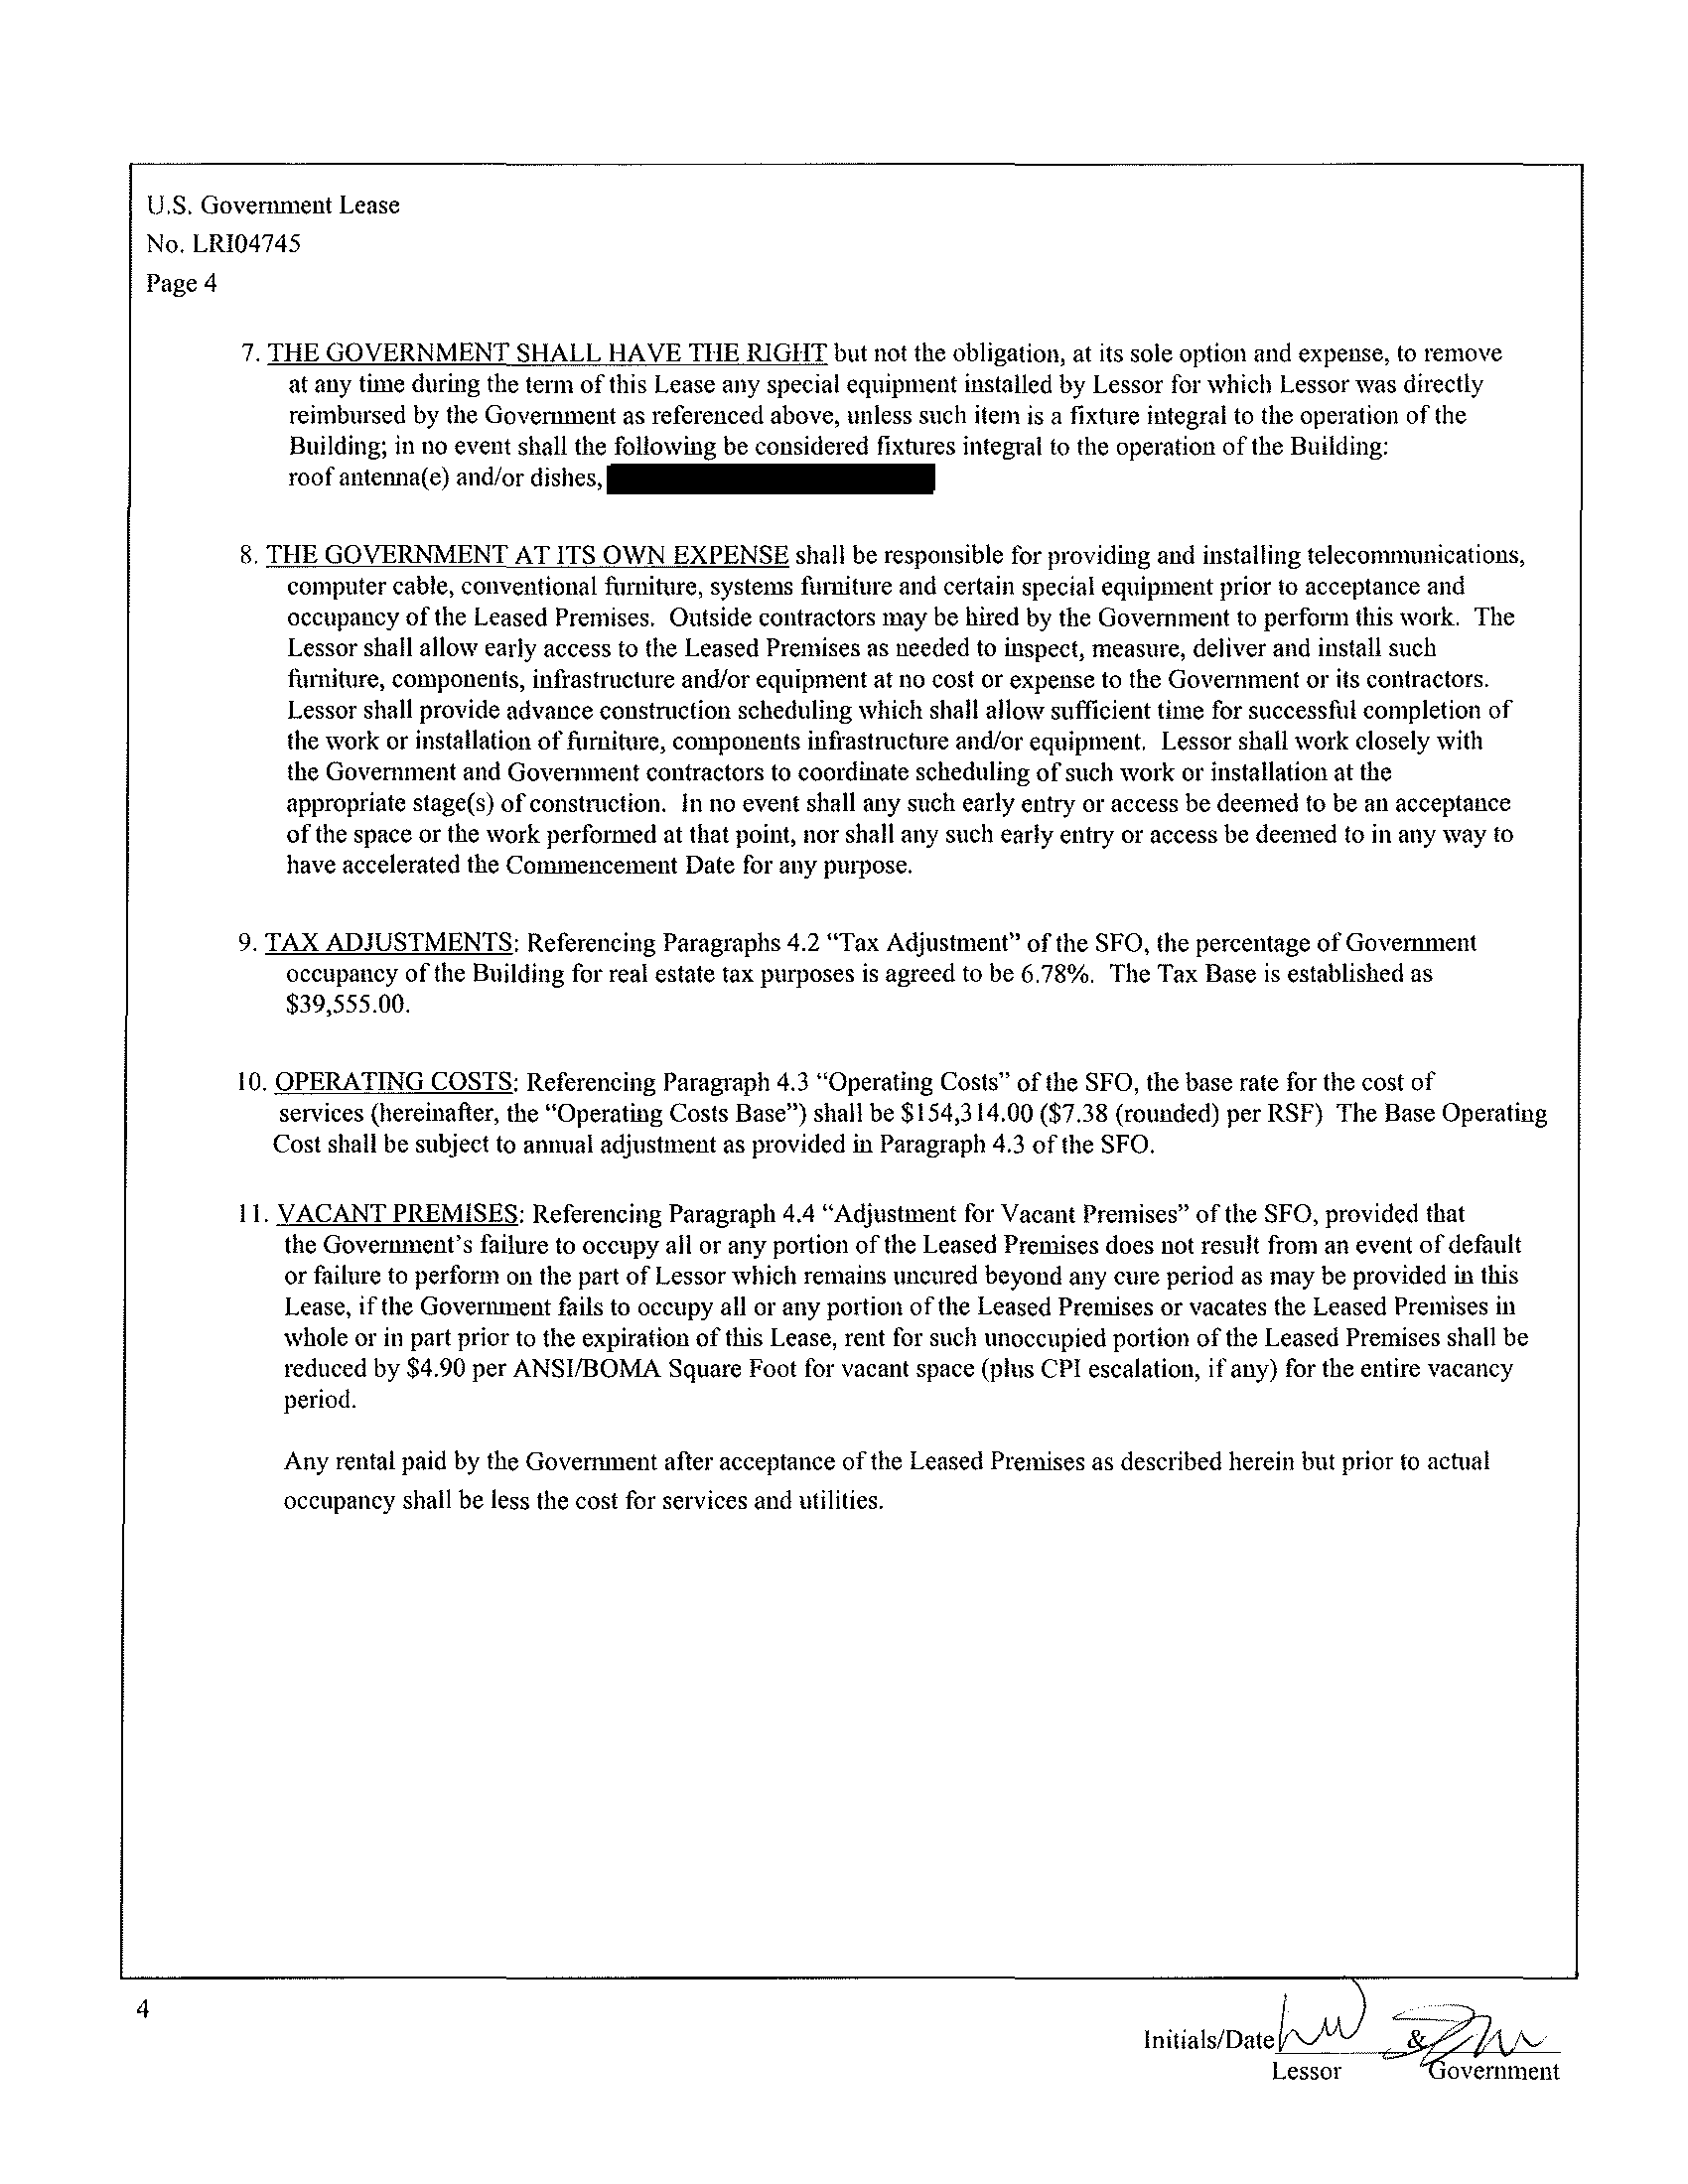handwritten: (1248, 1975, 1560, 2058)
